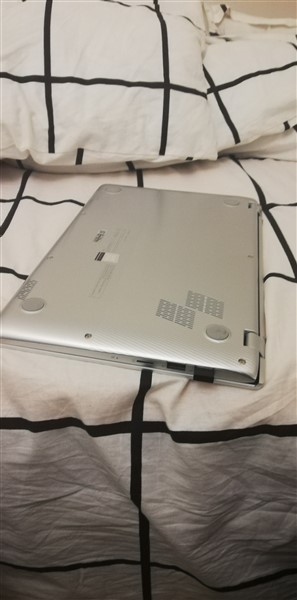laptop: (1, 183, 277, 392)
